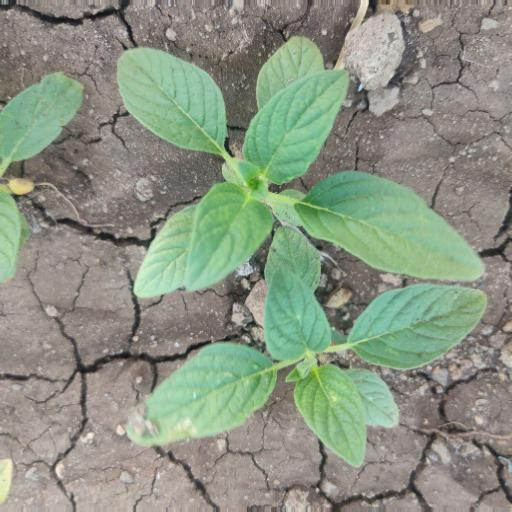crop: (91, 34, 495, 303), (114, 277, 485, 467)
